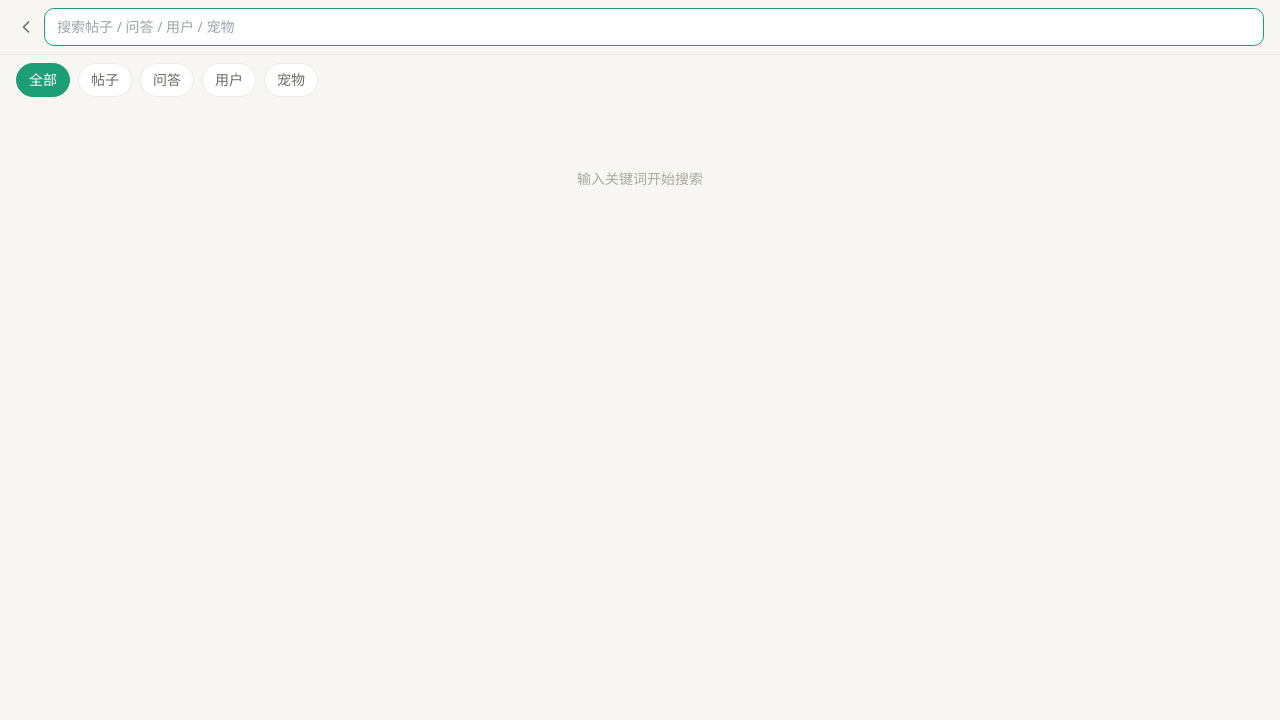
Test: SearchPage 全局搜索 › 分类 Tab 切换：帖子 Tab 只显示帖子
The image size is (1280, 720).
In the field with placeholder "搜索帖子 / 问答 / 用户 / 宠物": (654, 27) [44, 8, 1264, 46], type "疫苗"
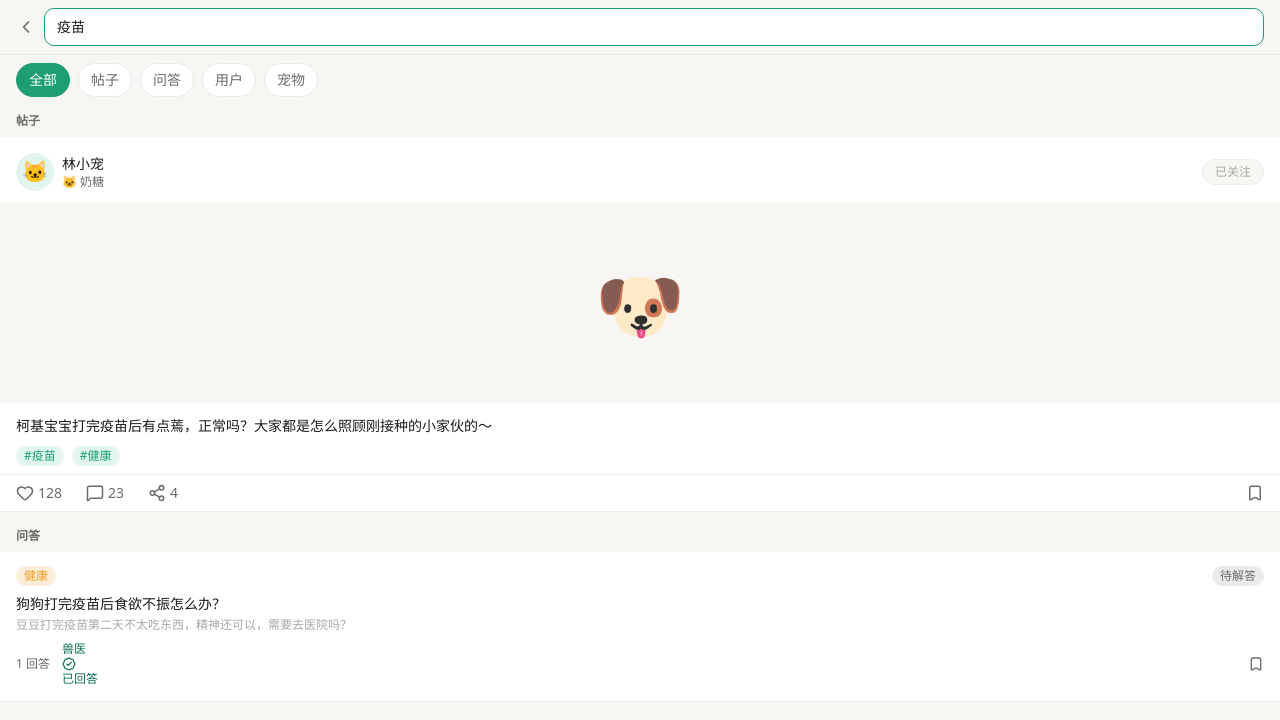
Click the button "帖子": (105, 80) [78, 63, 132, 97]
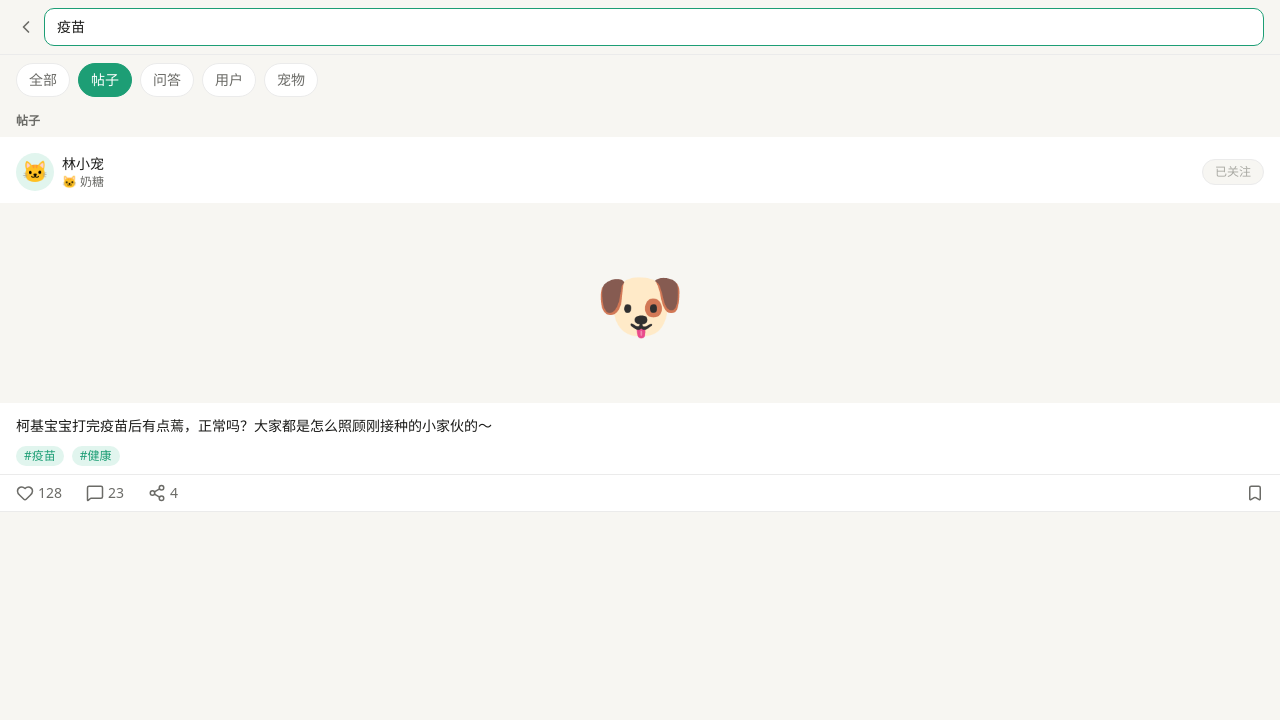
Now the link "柯基宝宝打完疫苗后有点蔫，正常吗？大家都是怎么照顾刚接种的小家伙的～" is shown, box [16, 416, 492, 435]
Now the link "狗狗打完疫苗后食欲不振怎么办？" is gone
